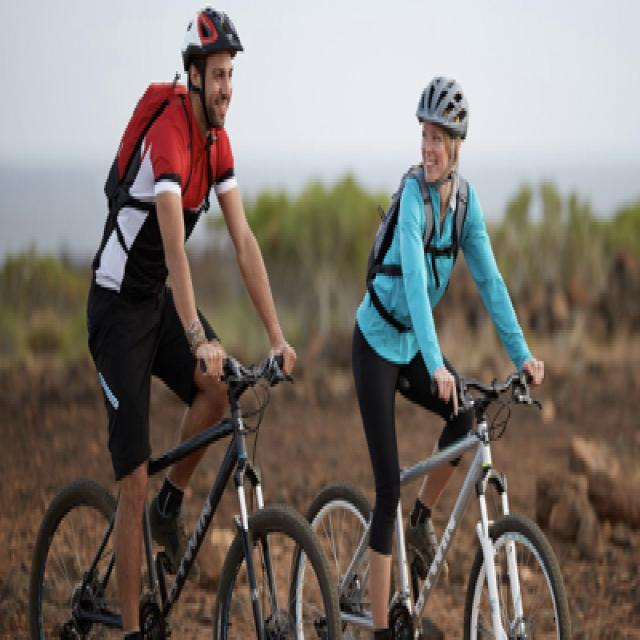Helmet: (170, 5, 254, 134), (411, 54, 475, 211)
